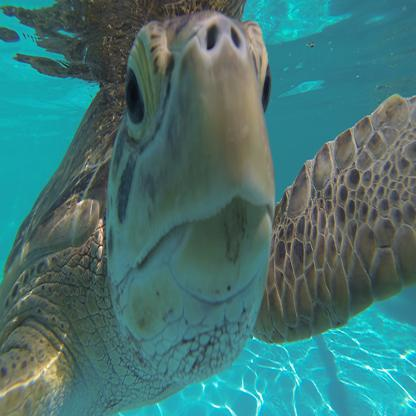turtle: (100, 6, 280, 390)
